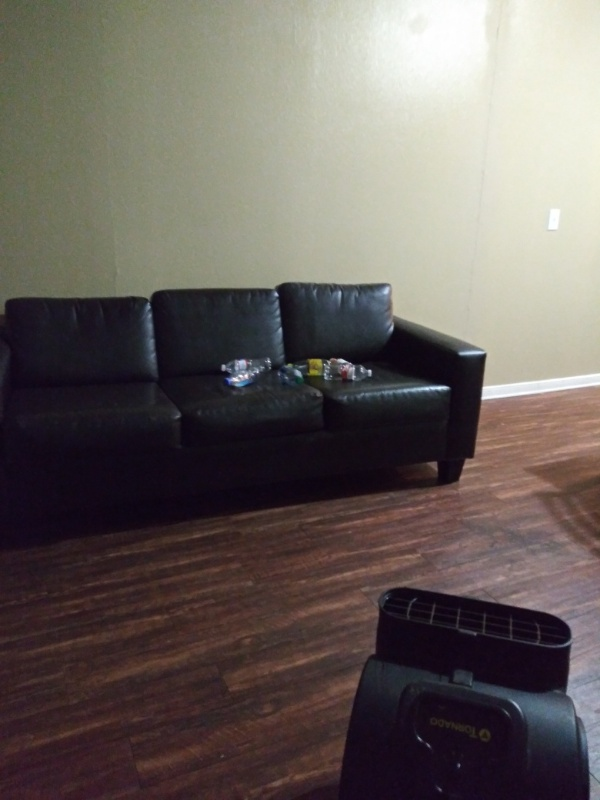bottle: (215, 354, 277, 377), (321, 362, 375, 384), (218, 367, 268, 390), (289, 358, 341, 379), (271, 363, 307, 389)
